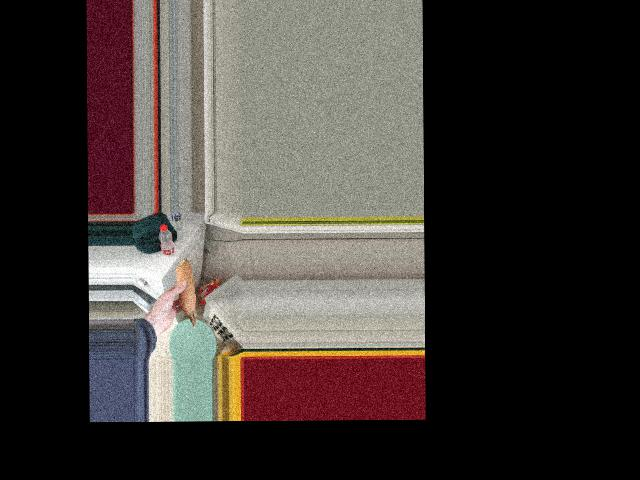sweet_potato: (179, 255, 198, 331)
